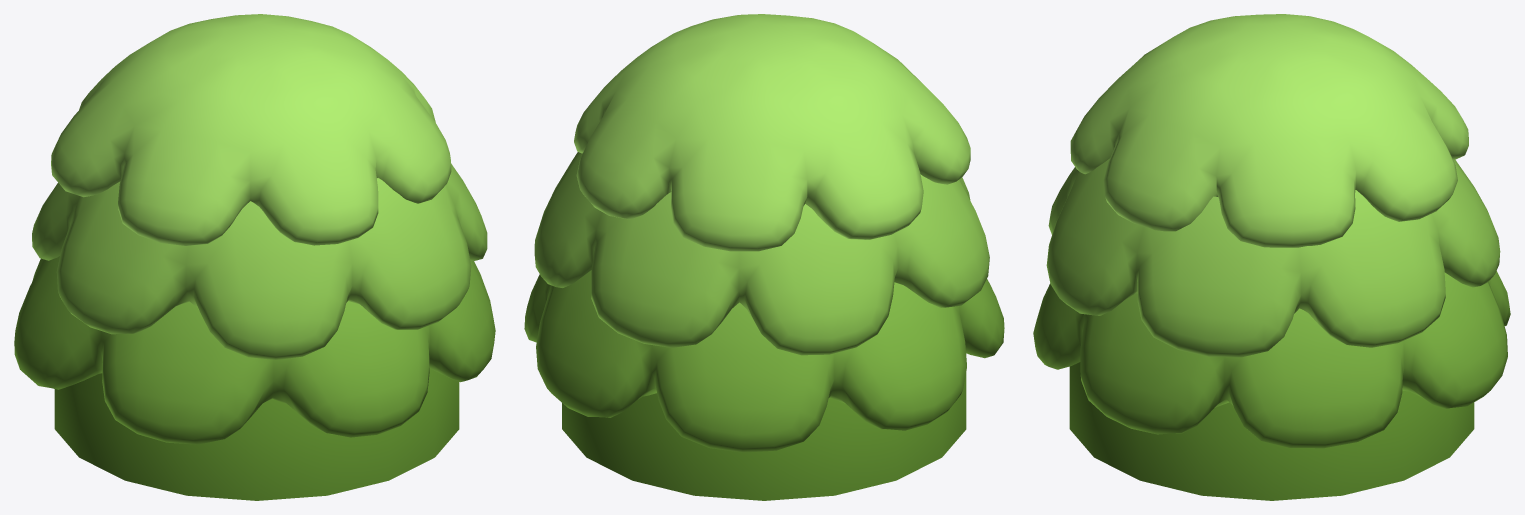
File: bush_3.fbx
3 views of the same model, side by side, from view 1: azimuth 30°, elevation 25°; view 2: azimuth 150°, elevation 25°; view 3: azimuth 270°, elevation 25° (orthographic).
Visible parts, largest first — view 1: bush_3; view 2: bush_3; view 3: bush_3.
Boxes of the visible parts, x1,y1,x2,y2 form: bush_3: [14, 14, 495, 500]; bush_3: [524, 14, 1004, 500]; bush_3: [1033, 14, 1510, 500].
Bounding box in the file's own units: 95.2 × 82.78 × 94.95.
1 material, 1 textured.
